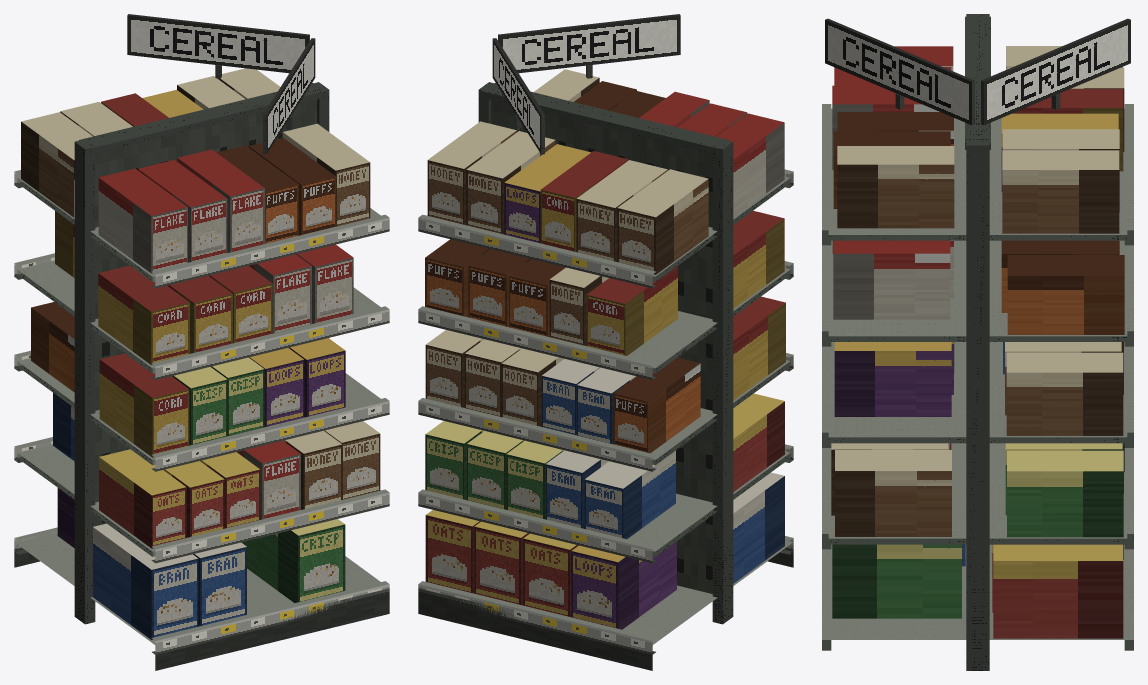
Rendered from gondola_cereal.glb.
3 renders of one model, left to right at view 1: azimuth 30°, elevation 25°; view 2: azimuth 150°, elevation 25°; view 3: azimuth 270°, elevation 25°, orthographic. The views are drawn at different scales.
Parts seen in each view (by area): view 1: GondolaCereal; view 2: GondolaCereal; view 3: GondolaCereal.
Part boxes in pixels (x1,y1,x2,y2): GondolaCereal: (14,14,389,670); GondolaCereal: (418,14,793,670); GondolaCereal: (822,14,1133,670).
Size of what is drawn, in the model's own units: 1.2 by 2.47 by 1.2.
1 material, 1 textured.
